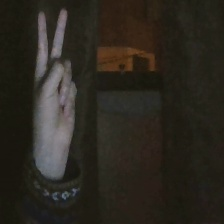V: (23, 3, 87, 161)
